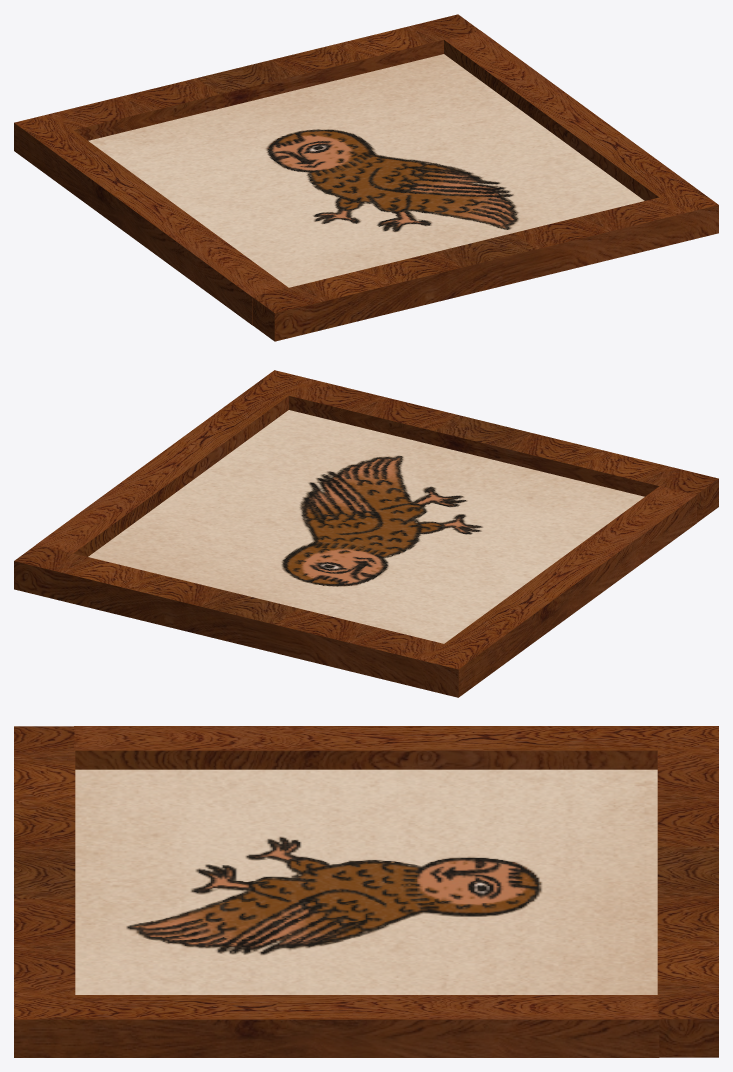
The model's file is newhugoframe.glb.
The picture shows the model from 3 angles, top to bottom: view 1: azimuth 30°, elevation 25°; view 2: azimuth 150°, elevation 25°; view 3: azimuth 270°, elevation 25°; orthographic projection. The views are drawn at different scales.
Visible parts, largest first — view 1: Plane, Cube.001, Cube; view 2: Plane, Cube, Cube.001; view 3: Plane, Cube.001, Cube.
Boxes of the visible parts, <box> form: Plane: <box>88,54,644,287</box>; Cube.001: <box>252,30,718,341</box>; Cube: <box>14,14,480,325</box>; Plane: <box>88,410,644,643</box>; Cube: <box>14,486,696,697</box>; Cube.001: <box>36,370,718,556</box>; Plane: <box>75,769,657,994</box>; Cube.001: <box>14,726,659,1057</box>; Cube: <box>74,726,718,1057</box>.
Bounding box in the file's own units: 0.6743 × 0.0411 × 0.6847.
Materials: 2 (2 with a texture image).
